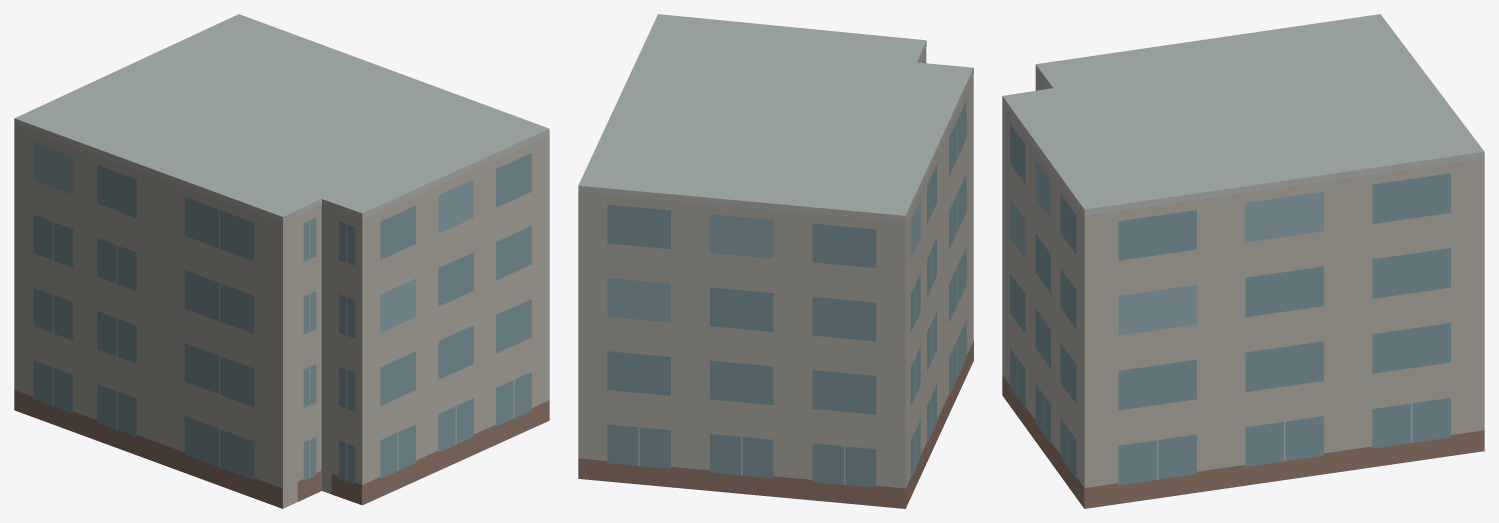
The model's file is survey-upis-32809288.glb.
3 views of the same model, side by side, from view 1: azimuth 30°, elevation 25°; view 2: azimuth 150°, elevation 25°; view 3: azimuth 270°, elevation 25° (orthographic). The views are drawn at different scales.
Visible parts, largest first — view 1: survey-upis-32809288.tmp; view 2: survey-upis-32809288.tmp; view 3: survey-upis-32809288.tmp.
Boxes of the visible parts, x1,y1,x2,y2 form: survey-upis-32809288.tmp: (14, 14, 549, 508); survey-upis-32809288.tmp: (578, 14, 973, 508); survey-upis-32809288.tmp: (1002, 14, 1484, 508).
Size of the model in its own units: 16.27 by 11.6 by 16.95.
